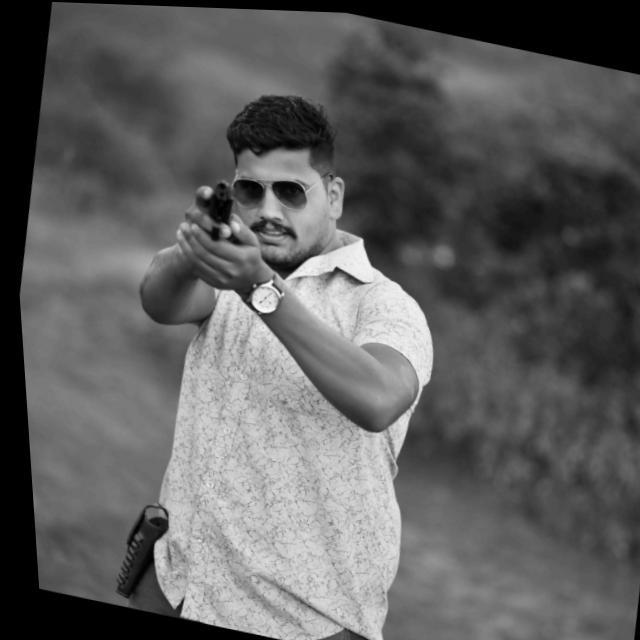weapon: (175, 167, 258, 291)
